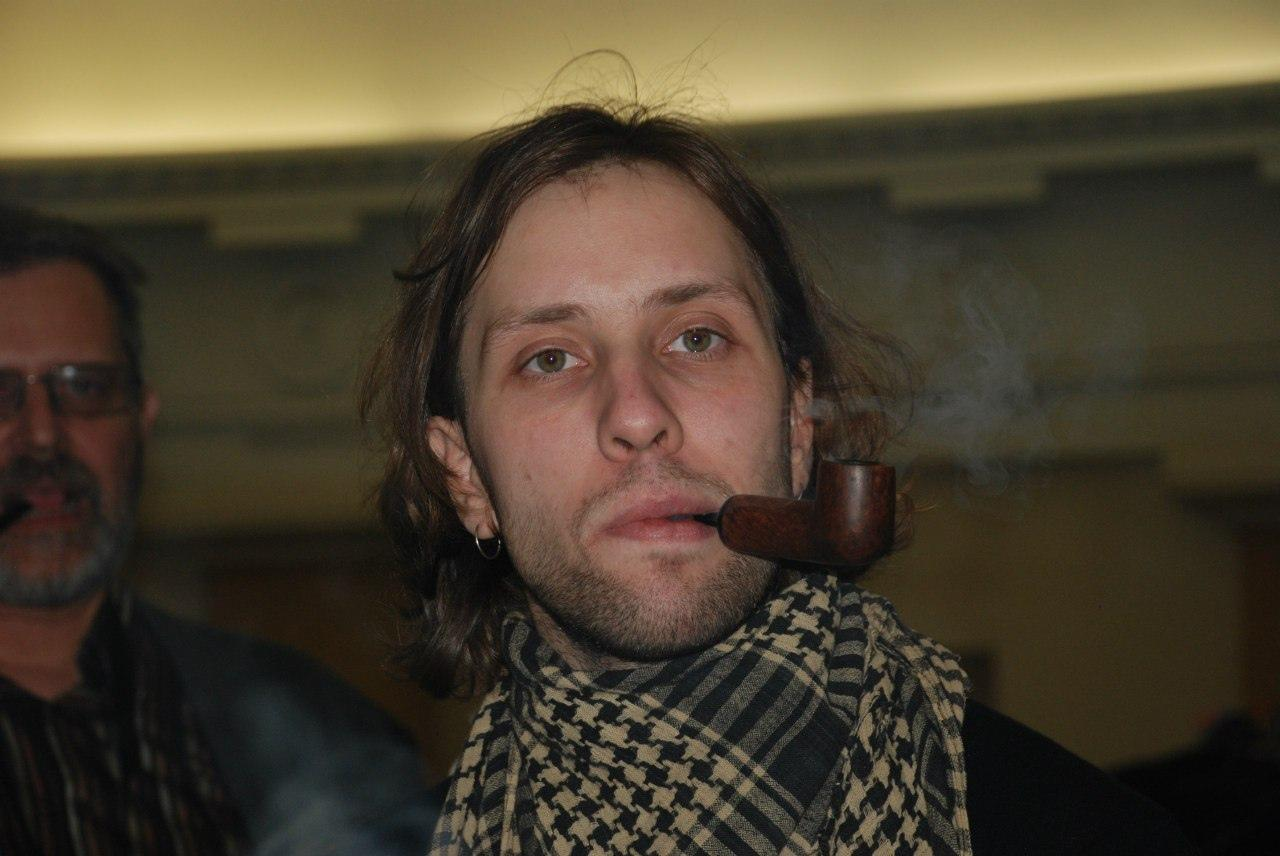trubka: (693, 455, 895, 568)
